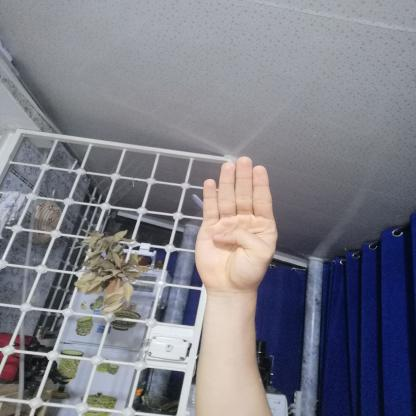KAAF: (184, 149, 288, 300)
